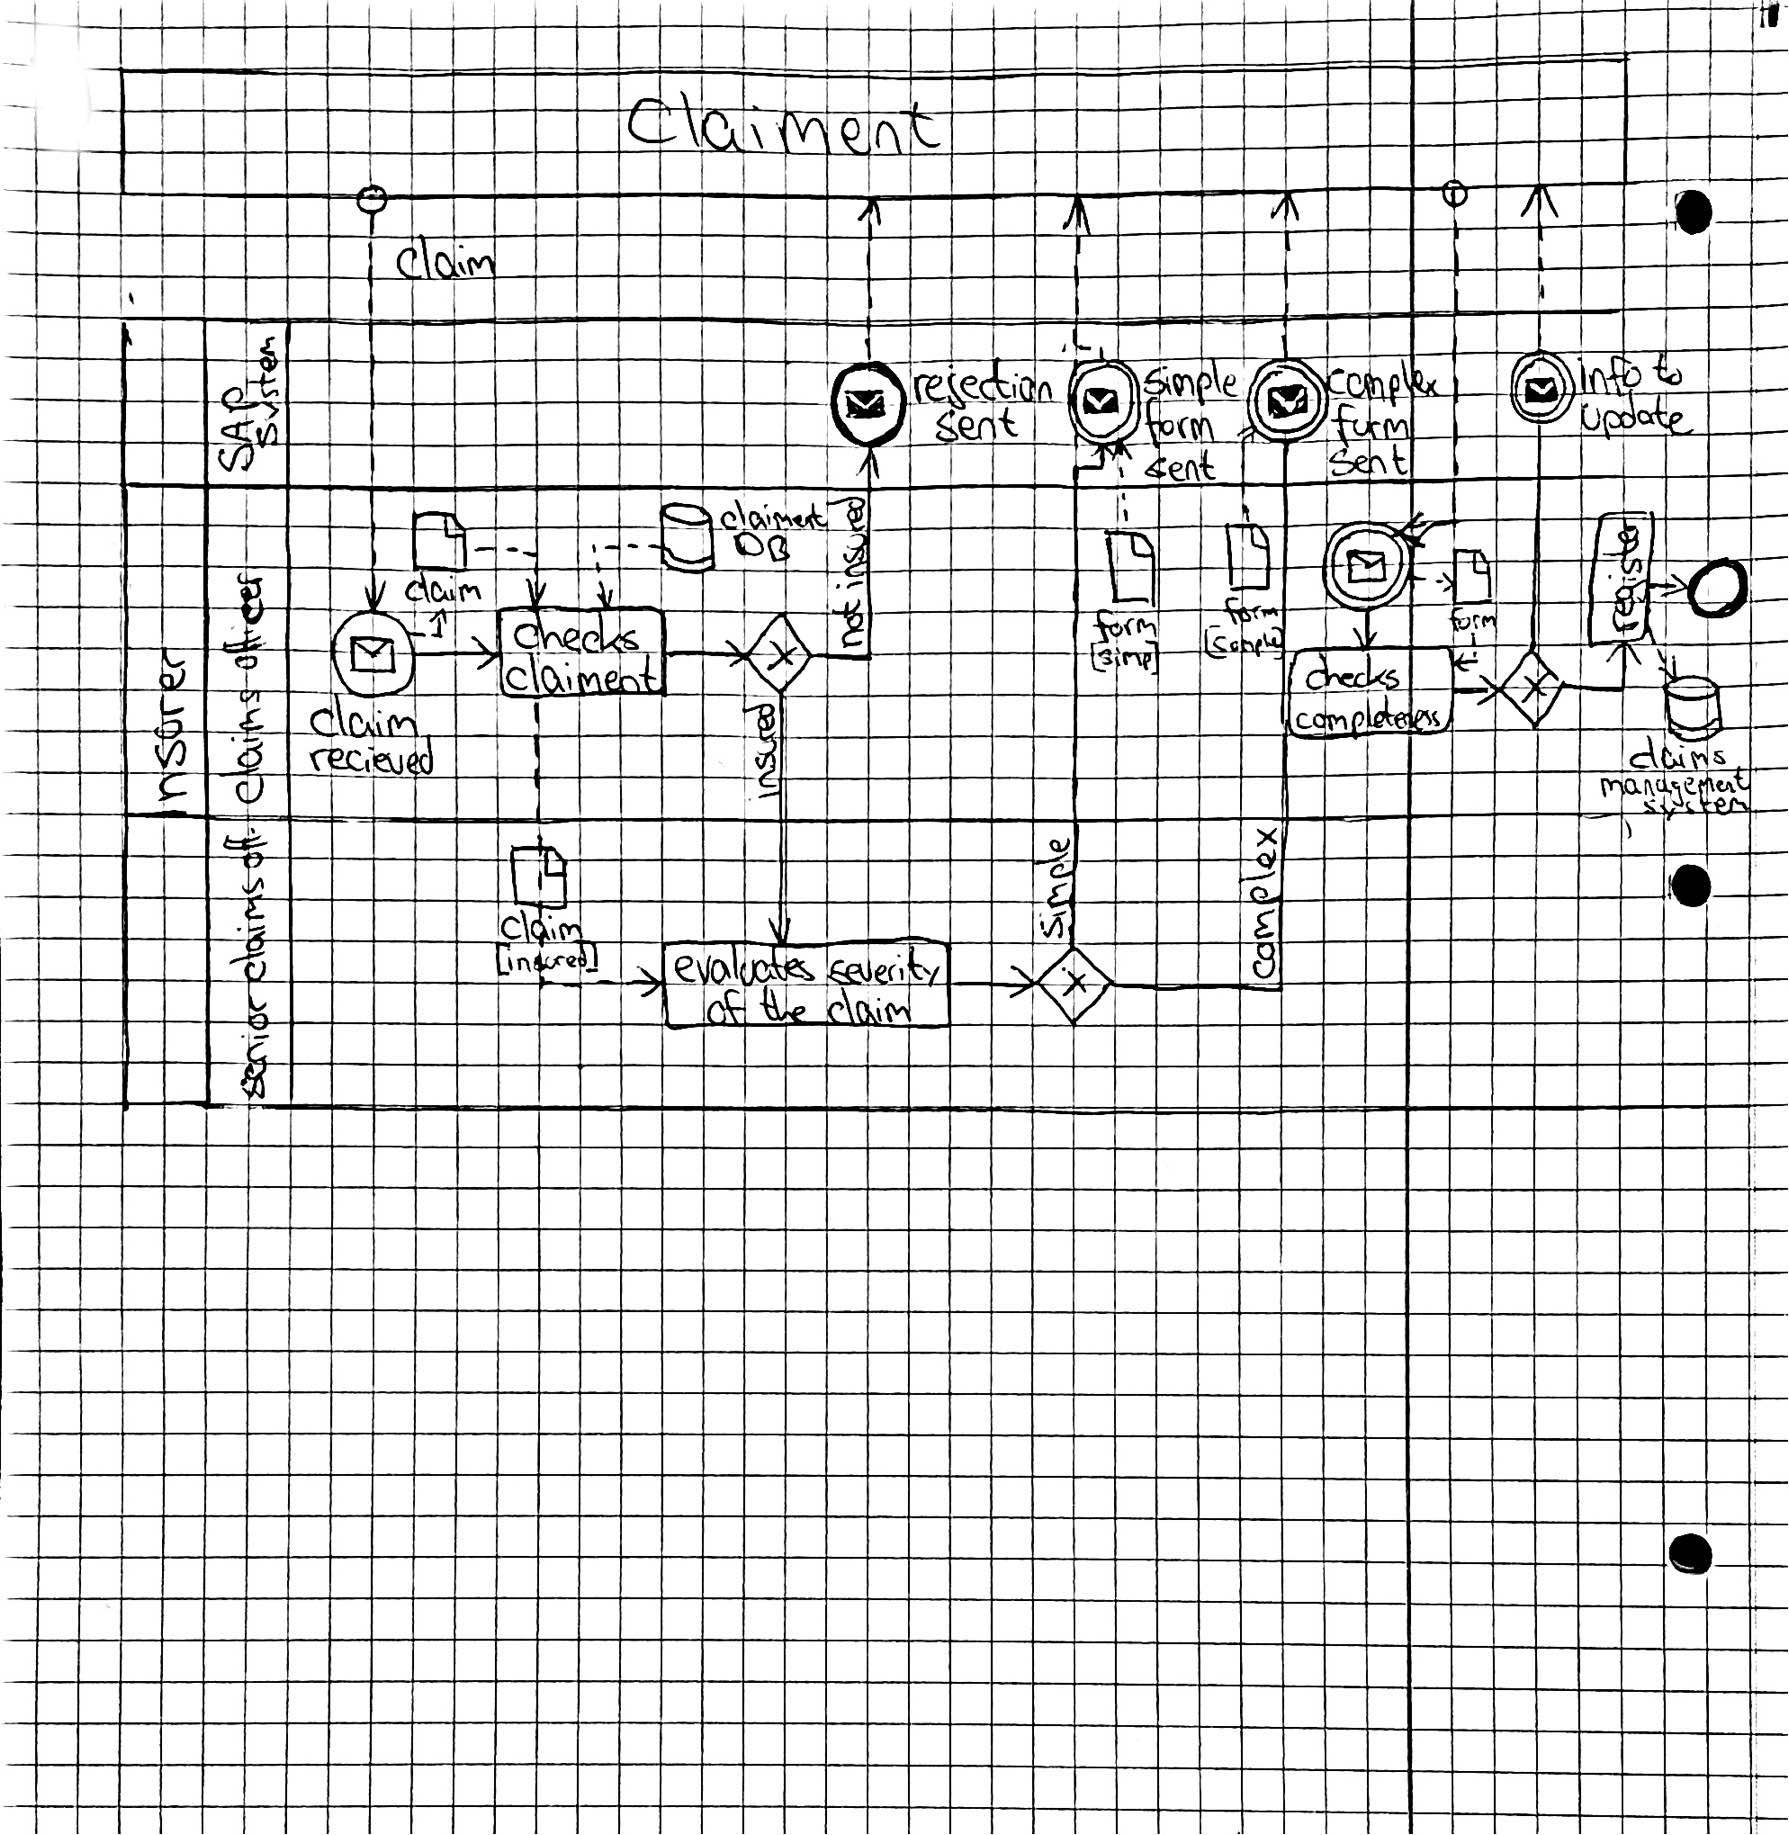Checks: (514, 614, 644, 660)
Claim: (395, 238, 496, 285)
Claiment: (639, 93, 939, 161)
Complex: (1324, 367, 1456, 410)
DB: (729, 529, 799, 564)
Form: (1452, 609, 1497, 634)
Insured: (745, 688, 790, 804)
Insurer: (152, 641, 195, 818)
SAP: (216, 383, 259, 473)
Sent: (1332, 444, 1412, 483)
System: (246, 334, 288, 444)
Update: (1579, 398, 1694, 441)
[complex]: (1209, 629, 1284, 664)
[insured]: (488, 937, 609, 981)
[simp]: (1094, 641, 1168, 677)
checks: (1302, 657, 1404, 696)
claim: (403, 569, 503, 614), (315, 705, 423, 745), (822, 991, 911, 1032), (500, 909, 583, 949)
claiment: (501, 655, 659, 695), (714, 495, 826, 537)
claims: (223, 683, 274, 804), (228, 875, 277, 978), (1628, 739, 1733, 773)
completeness: (1294, 705, 1447, 736)
complex: (1248, 826, 1284, 976)
evaluates: (673, 950, 819, 991)
form: (1139, 411, 1212, 454), (1332, 408, 1411, 446), (1093, 611, 1165, 642), (1221, 598, 1284, 631)
info: (1566, 342, 1642, 410)
insured: (836, 487, 868, 595)
management: (1599, 768, 1755, 801)
not: (834, 600, 868, 646)
of: (701, 986, 745, 1027)
off: (223, 818, 274, 878)
officer: (223, 565, 274, 672)
recieved: (308, 744, 436, 782)
register: (1602, 518, 1650, 636)
rejection: (909, 365, 1067, 413)
senior: (233, 985, 277, 1096)
sent: (937, 406, 1022, 444), (1148, 452, 1219, 487)
severity: (826, 952, 944, 991)
simple: (1029, 837, 1081, 949), (1140, 364, 1248, 413)
system: (1640, 786, 1751, 818)
the: (750, 990, 818, 1031)
to: (1643, 349, 1687, 400)
